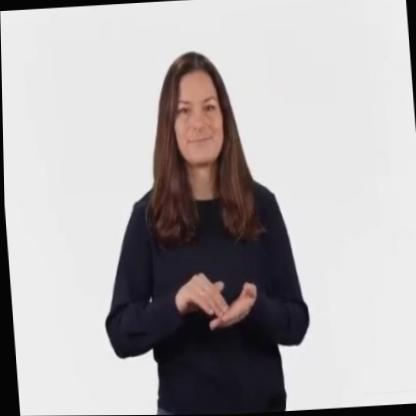ExcuseMe: (175, 253, 259, 338)
